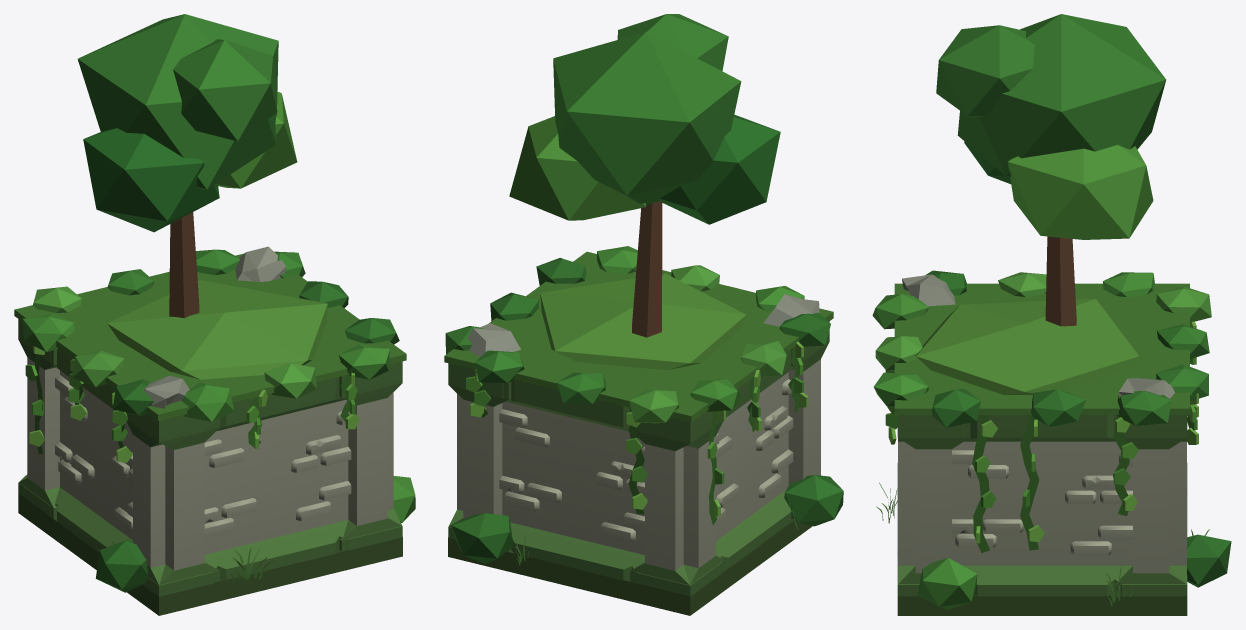
Rendered from wall_b.fbx.
3 renders of one model, left to right at view 1: azimuth 30°, elevation 25°; view 2: azimuth 150°, elevation 25°; view 3: azimuth 270°, elevation 25°, orthographic. The views are drawn at different scales.
Parts seen in each view (by area): view 1: wall_b; view 2: wall_b; view 3: wall_b.
Part boxes in pixels (box(x1,y1,x2,y2)): wall_b: box(14, 14, 415, 615); wall_b: box(444, 14, 843, 615); wall_b: box(872, 14, 1231, 615).
Size of the model in its own units: 5.18 by 8.12 by 4.96.
